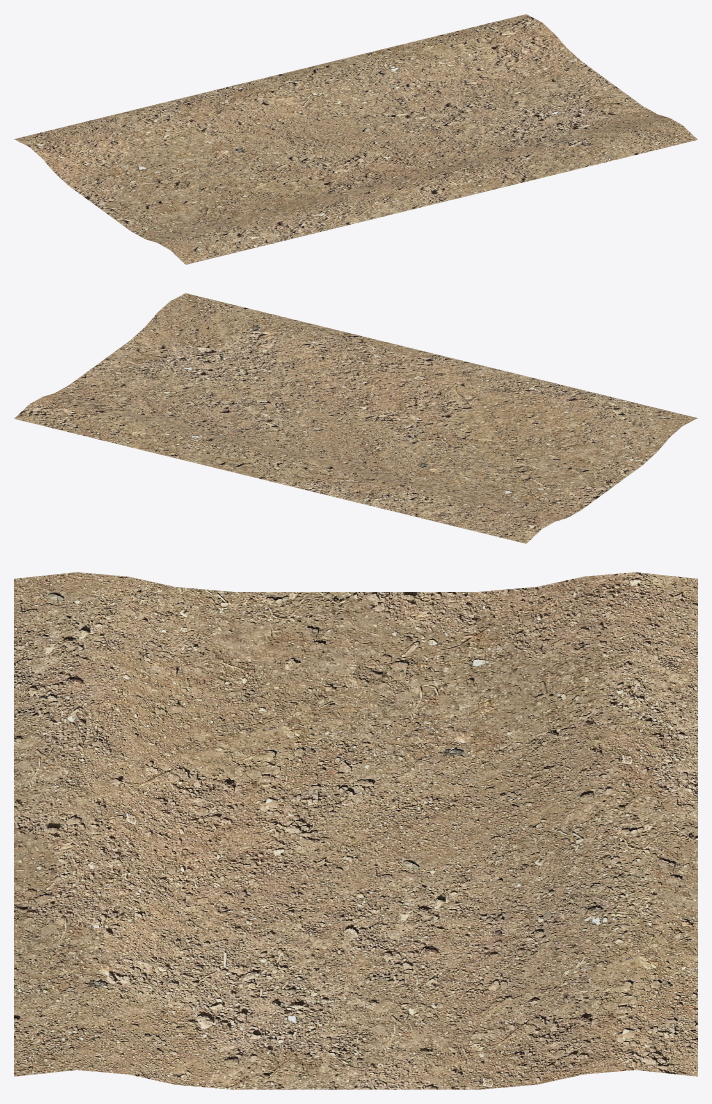
File: teste.fbx
The picture shows the model from 3 angles, top to bottom: view 1: azimuth 30°, elevation 25°; view 2: azimuth 150°, elevation 25°; view 3: azimuth 270°, elevation 25°; orthographic projection. The views are drawn at different scales.
Parts seen in each view (by area): view 1: ground:pPlane1; view 2: ground:pPlane1; view 3: ground:pPlane1.
Part boxes in pixels (x1,y1,x2,y2): ground:pPlane1: (14,14,697,264); ground:pPlane1: (14,293,697,543); ground:pPlane1: (14,572,697,1089).
Bounding box in the file's own units: 1000 × 18.52 × 581.
Materials: 1 (1 with a texture image).
